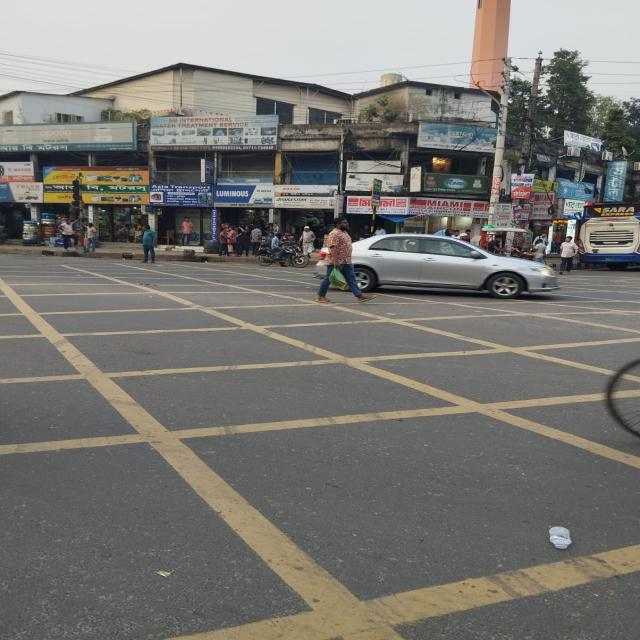person: (316, 217, 376, 305), (58, 218, 73, 236), (54, 217, 66, 232)
